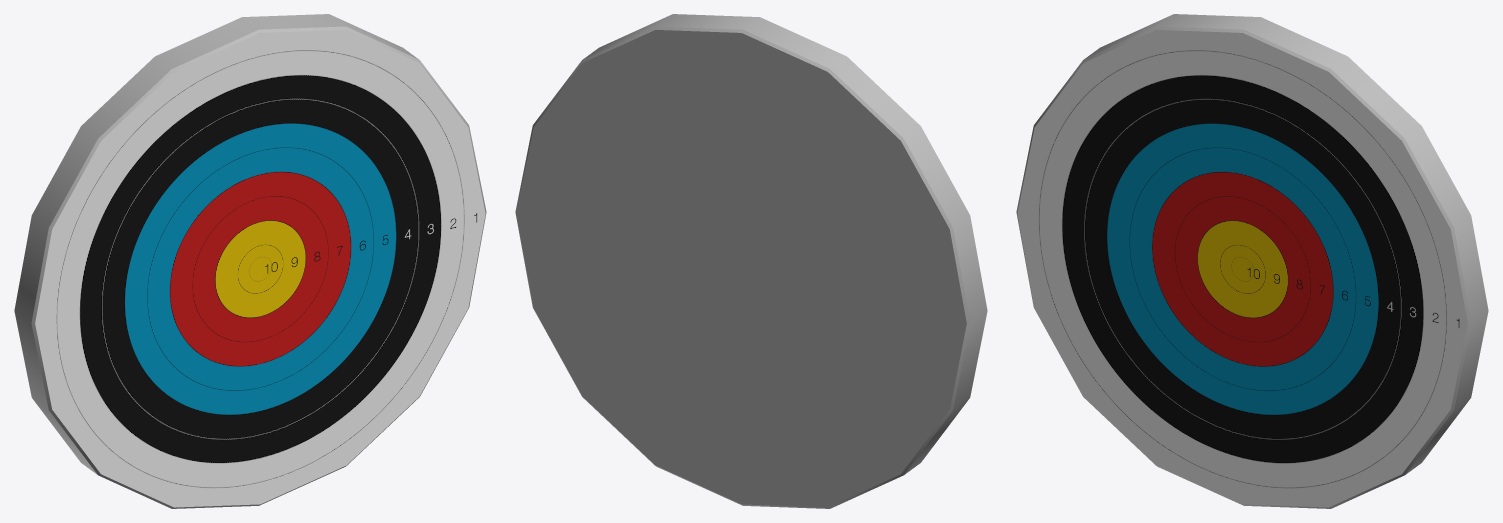
The model's file is Target.fbx.
The picture shows the model from 3 angles, left to right: view 1: azimuth 30°, elevation 25°; view 2: azimuth 150°, elevation 25°; view 3: azimuth 330°, elevation 25°; orthographic projection.
Visible parts, largest first — view 1: MESH_ARCHERY_Target; view 2: MESH_ARCHERY_Target; view 3: MESH_ARCHERY_Target.
Boxes of the visible parts, x1=… form: MESH_ARCHERY_Target: x1=14, y1=14, x2=486, y2=508; MESH_ARCHERY_Target: x1=515, y1=14, x2=987, y2=508; MESH_ARCHERY_Target: x1=1016, y1=14, x2=1488, y2=508.
Size of the model in its own units: 60 by 60 by 4.5.
